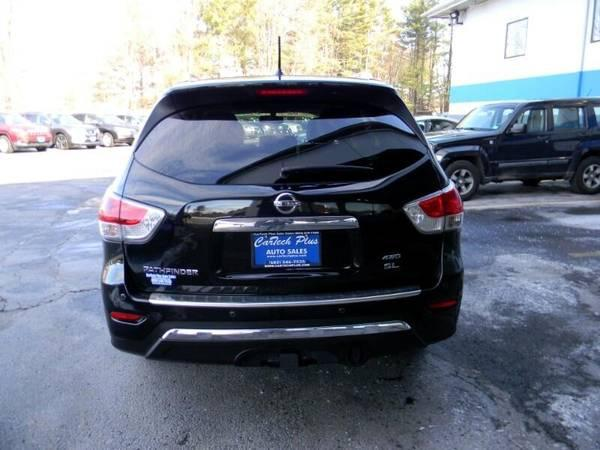Left_Taillight: (97, 191, 163, 241)
Rear_Bumper: (102, 230, 463, 356)
Rear_Windshield: (133, 99, 427, 188)
Right_Taillight: (403, 184, 464, 234)
Roof: (134, 80, 421, 148)
Tailgate: (112, 151, 449, 296)
